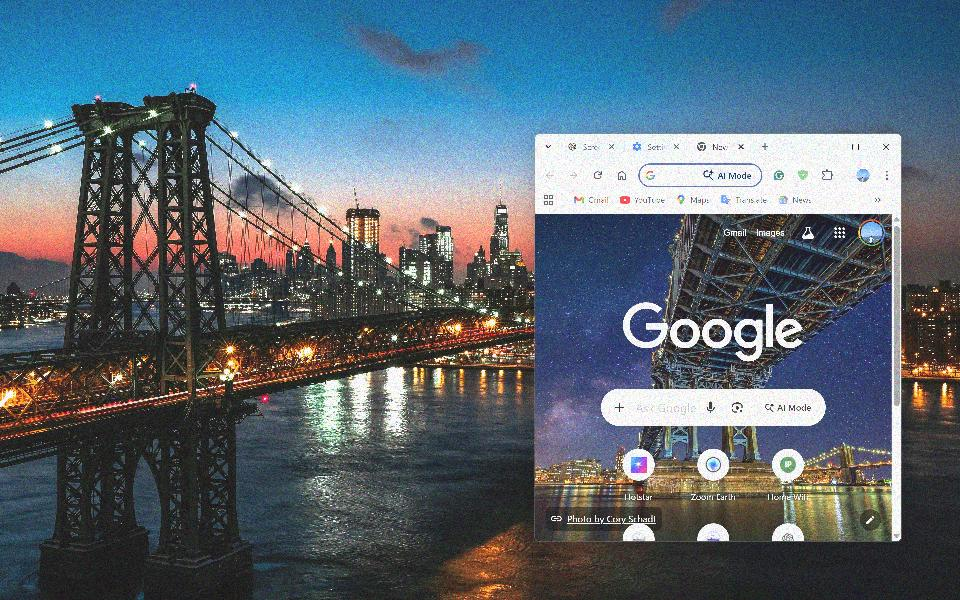close_button: (876, 137, 896, 158)
maximize_button: (846, 139, 867, 156)
minimize_button: (816, 138, 837, 157)
